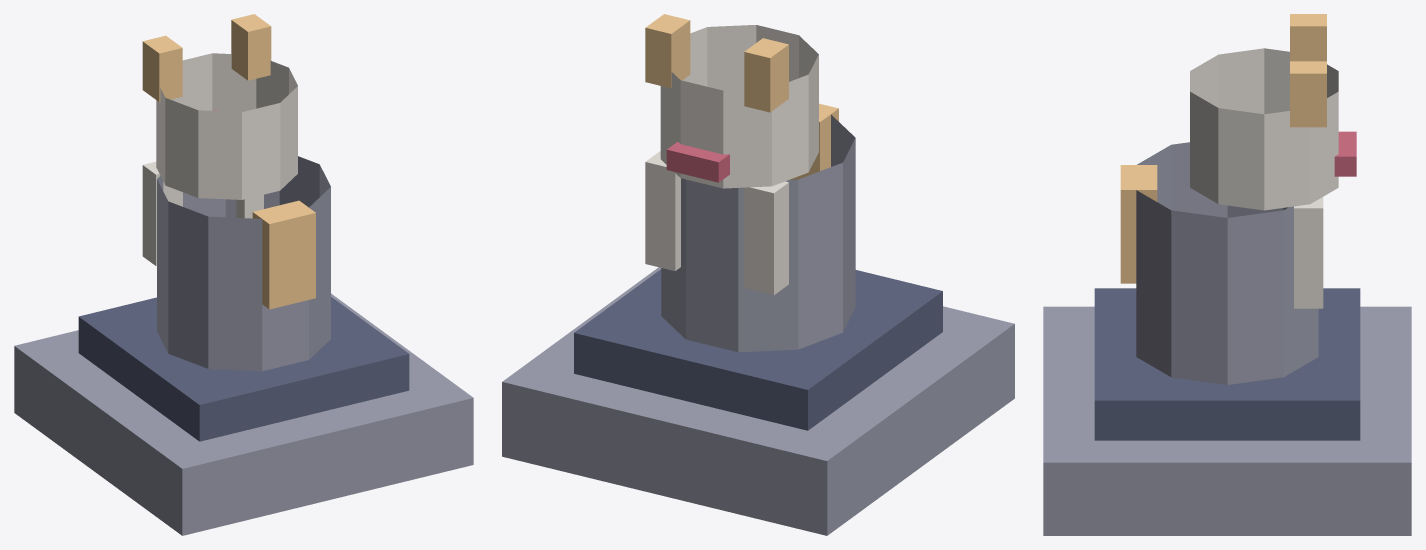
File: v07_dojo_komainu_plinth_lod0.glb
The picture shows the model from 3 angles, left to right: view 1: azimuth 30°, elevation 25°; view 2: azimuth 150°, elevation 25°; view 3: azimuth 270°, elevation 25°; orthographic projection. The views are drawn at different scales.
Parts seen in each view (by area): view 1: dojo_komainu_plinth; view 2: dojo_komainu_plinth; view 3: dojo_komainu_plinth.
Part boxes in pixels (x1,y1,x2,y2): dojo_komainu_plinth: (14, 14, 473, 535); dojo_komainu_plinth: (502, 14, 1014, 535); dojo_komainu_plinth: (1043, 14, 1411, 535).
Size of the model in its own units: 2.5 by 3.1 by 2.5.
